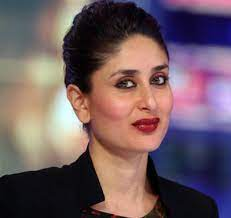n.sharp: (138, 79, 158, 112)
